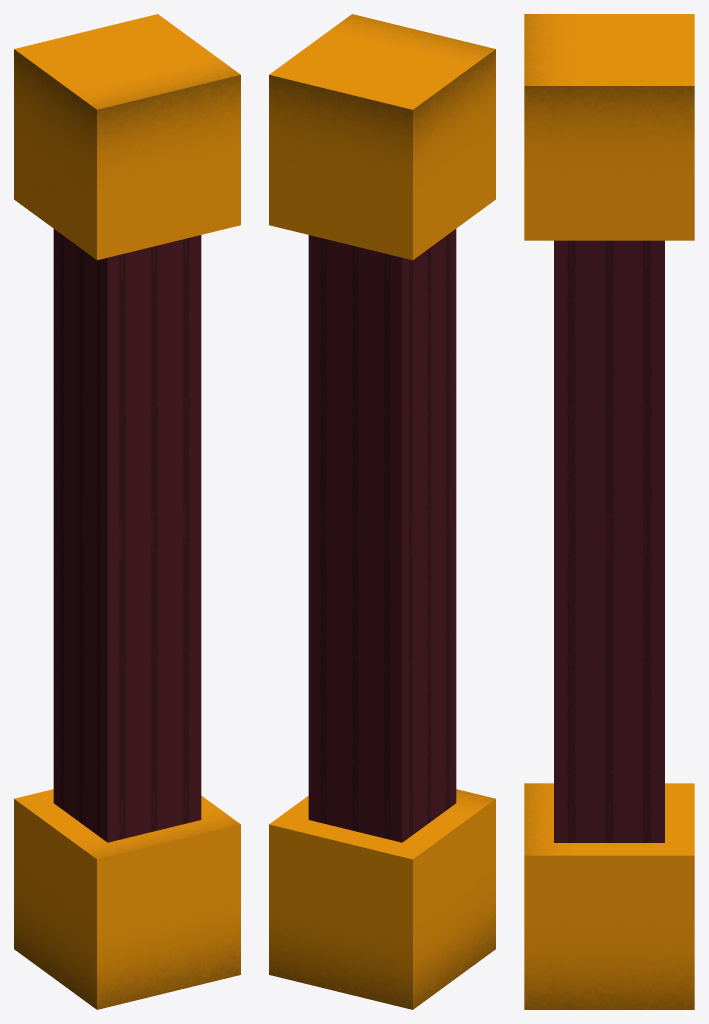
File: Pillar.fbx
3 renders of one model, left to right at view 1: azimuth 30°, elevation 25°; view 2: azimuth 150°, elevation 25°; view 3: azimuth 270°, elevation 25°, orthographic. The views are drawn at different scales.
Visible parts, largest first — view 1: Cube.003; view 2: Cube.003; view 3: Cube.003.
Part boxes in pixels (x1,y1,x2,y2): Cube.003: (14, 14, 240, 1009); Cube.003: (269, 14, 495, 1009); Cube.003: (524, 14, 694, 1009).
Size of the model in its own units: 200 by 1196 by 200.
